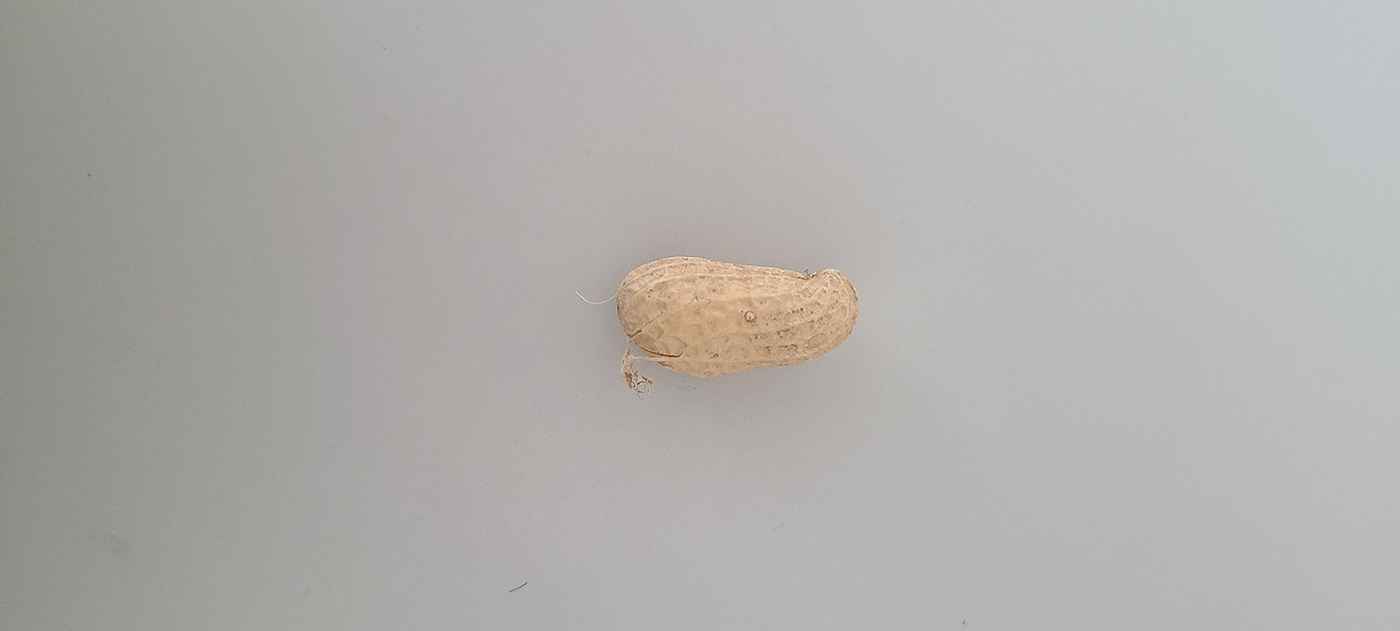h: (616, 254, 861, 375)
